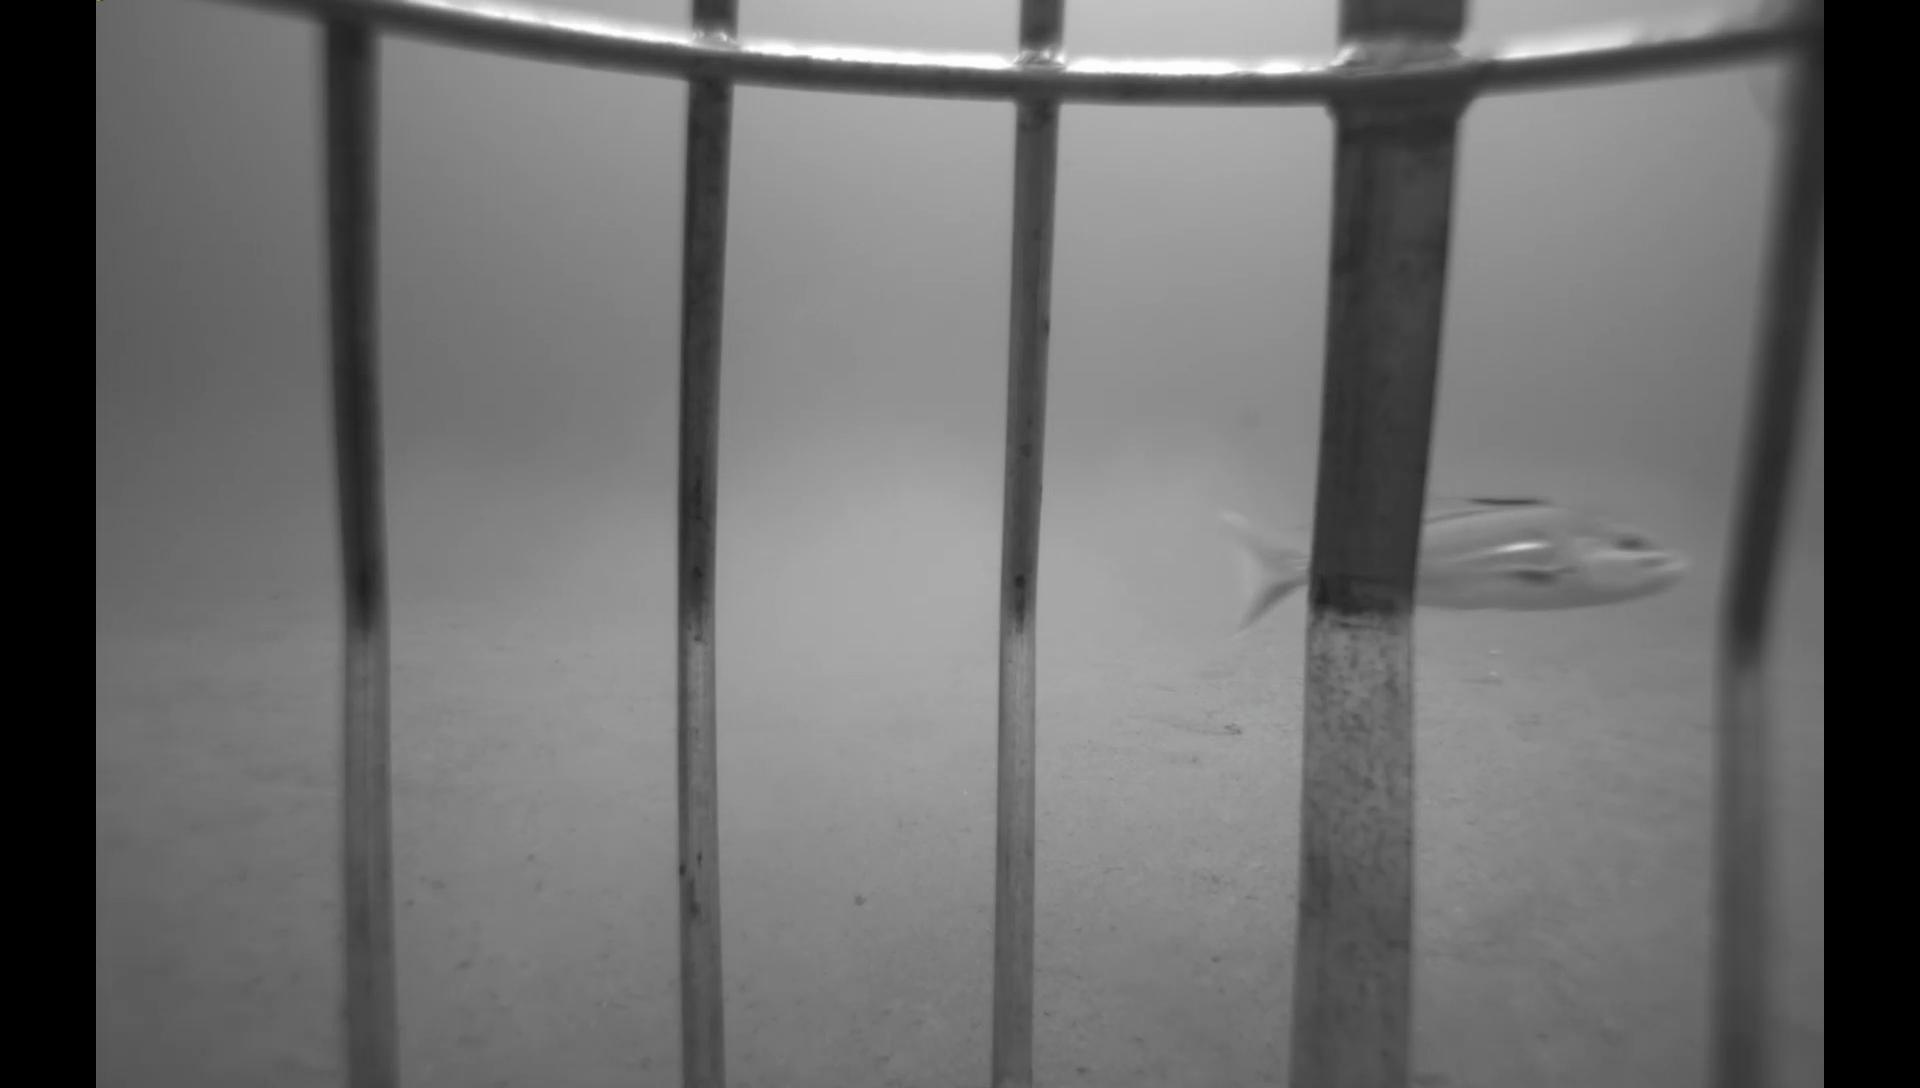CAULOLATILUSCYANOPS-170070101: (1201, 489, 1697, 666)
PRISTIPOMOIDES-170151800: (94, 580, 232, 648)
SYACIUM-183011000: (1143, 699, 1249, 742)
